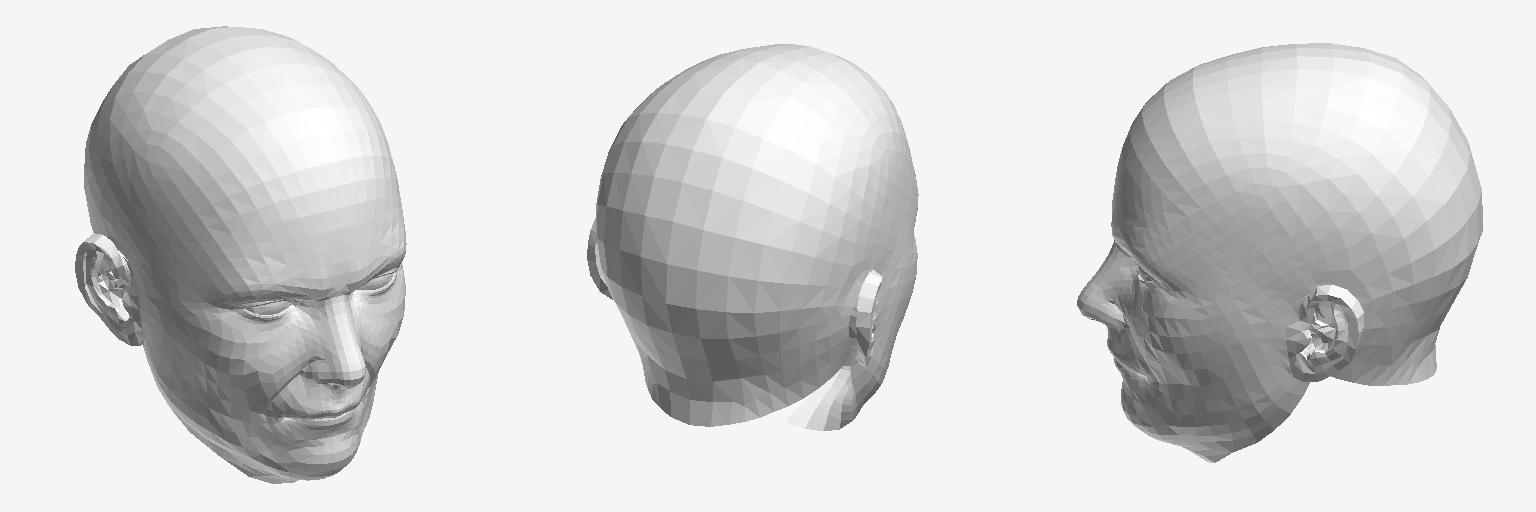
Rendered from Old.obj.
The picture shows the model from 3 angles: view 1: azimuth 30°, elevation 25°; view 2: azimuth 150°, elevation 25°; view 3: azimuth 270°, elevation 25°; orthographic projection.
Visible parts, largest first — view 1: Genesis8Female; view 2: Genesis8Female; view 3: Genesis8Female.
Boxes of the visible parts, box(x1,y1,x2,y2) form: Genesis8Female: box(75, 26, 406, 483); Genesis8Female: box(587, 44, 918, 430); Genesis8Female: box(1077, 43, 1482, 462).
Size of the model in its own units: 18.3 by 24.6 by 22.69.